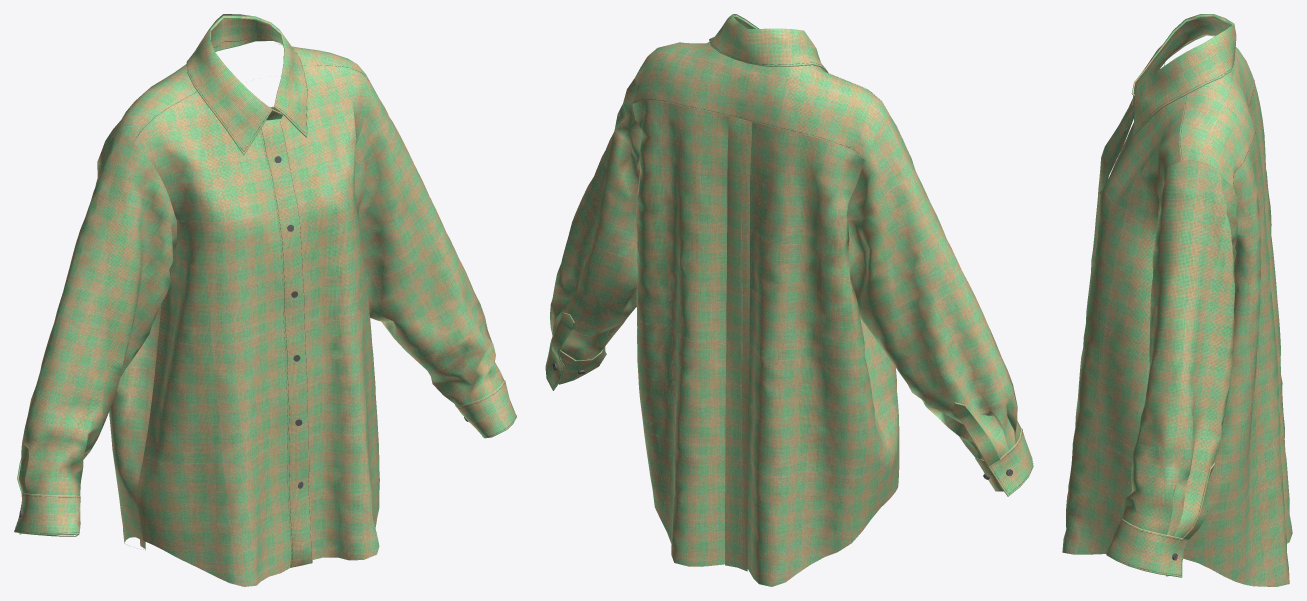
File: seamless.glb
3 views of the same model, side by side, from view 1: azimuth 30°, elevation 25°; view 2: azimuth 150°, elevation 25°; view 3: azimuth 270°, elevation 25° (orthographic). The views are drawn at different scales.
Visible parts, largest first — view 1: Cloth; view 2: Cloth; view 3: Cloth.
Boxes of the visible parts, bbox=[...] form: Cloth: bbox=[14, 14, 516, 586]; Cloth: bbox=[545, 14, 1033, 586]; Cloth: bbox=[1062, 14, 1292, 586].
Size of the model in its own units: 0.8009 by 0.844 by 0.3261.
Materials: 8 (6 with a texture image).
